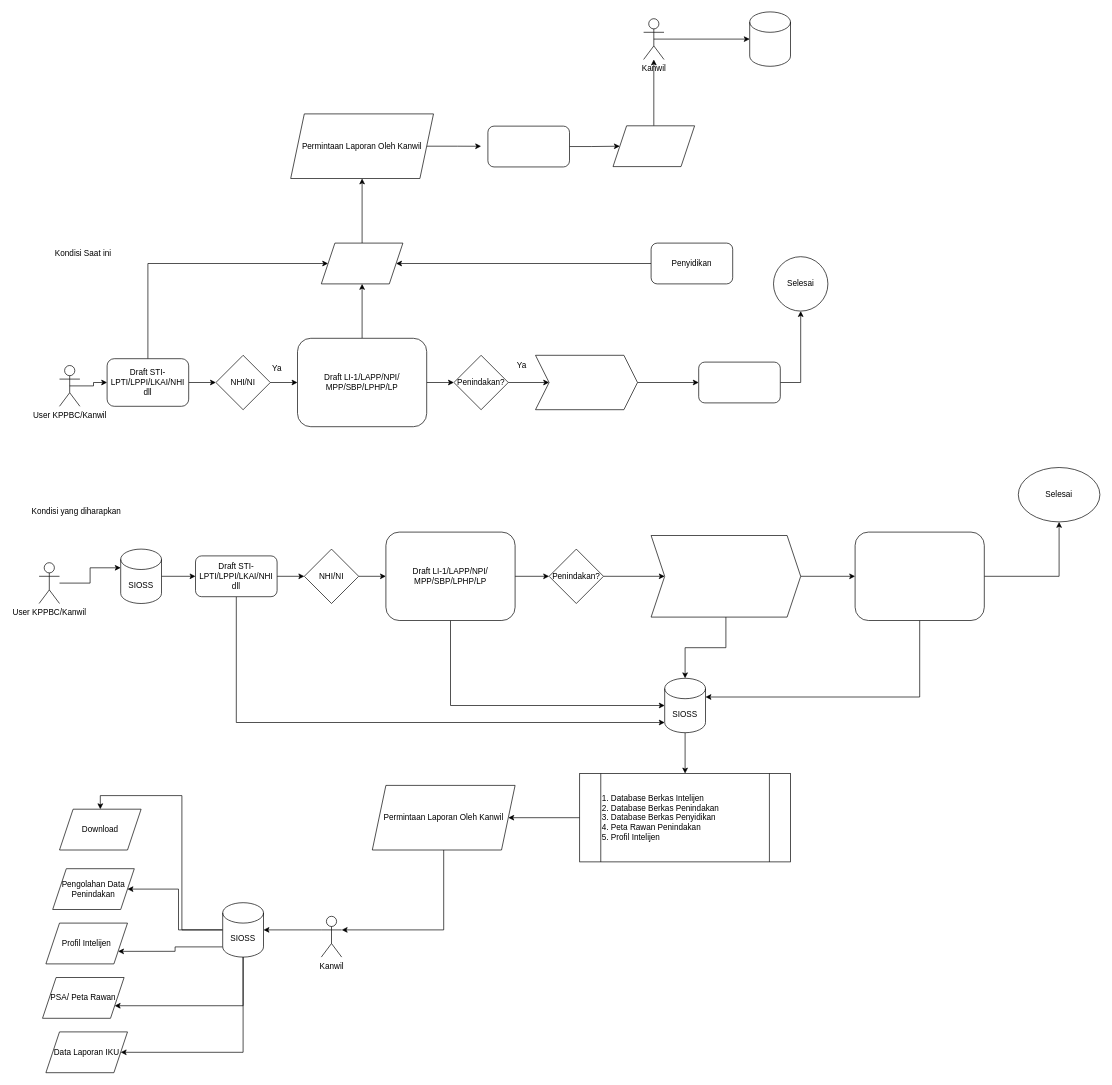
This 1112x1085 diagram has some shape labels left out. The shapes that lost their labels are listed below. From the top down, each one's centre as x and y in pixels, then its label:
At (769,38): "Arsip Drive".
At (528,146): "Draft Laporan".
At (653,146): "Terima Laporan".
At (362,263): "Drive/Excell/DB".
At (586,382): "Input Data SBP dan Pelangga".
At (739,382): "APP Penindakan".
At (725,576): "Input Data SBP dan Pelanggaran".
At (919,575): "Draft LP Perkara/ LP Formal/ LP1 /SPLIT /LRP".
